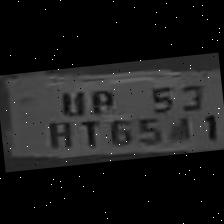1: (186, 108, 224, 143)
3: (174, 76, 207, 113)
5: (132, 110, 166, 144), (146, 80, 176, 116)
6: (86, 110, 136, 150)
A: (40, 113, 75, 149)
P: (83, 82, 118, 114)
T: (66, 112, 102, 148)
U: (53, 78, 87, 118)
